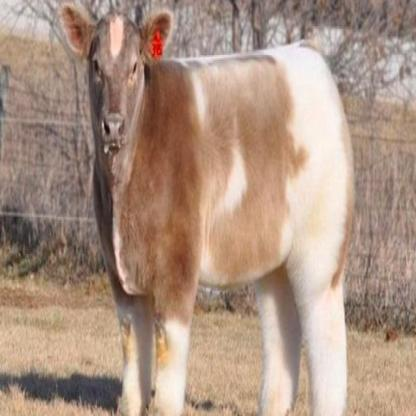cow: (58, 6, 352, 416)
